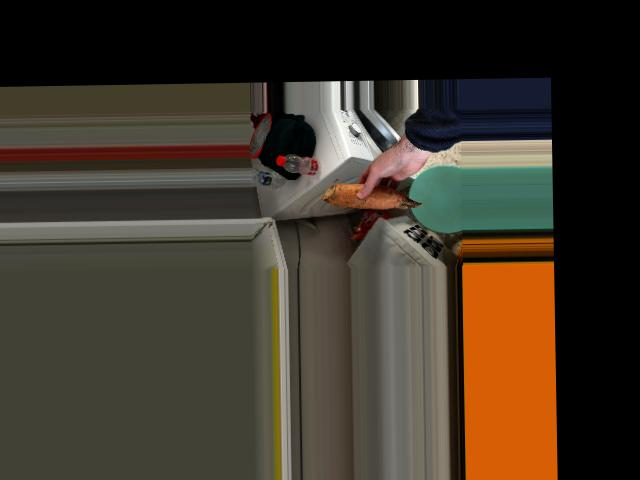sweet_potato: (331, 178, 415, 209)
